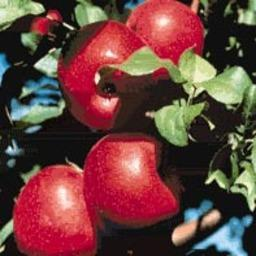apple: (82, 129, 186, 231), (58, 20, 143, 130), (12, 166, 105, 255), (137, 1, 212, 72)
